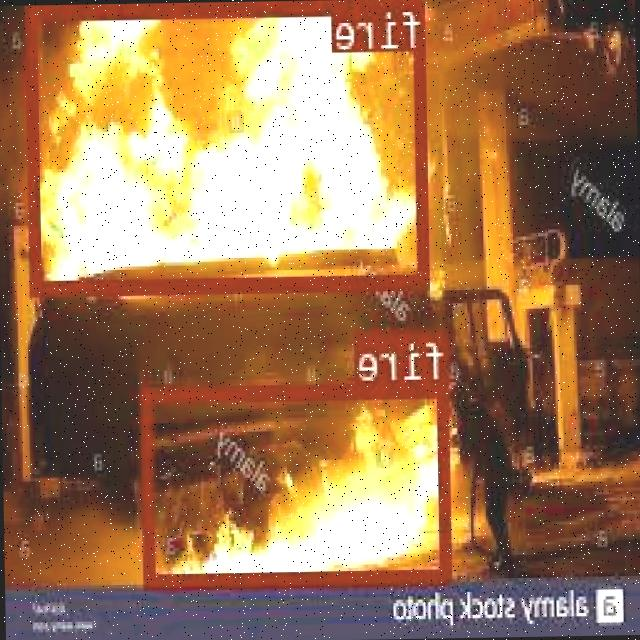fire: (26, 0, 432, 291), (142, 381, 452, 586)
